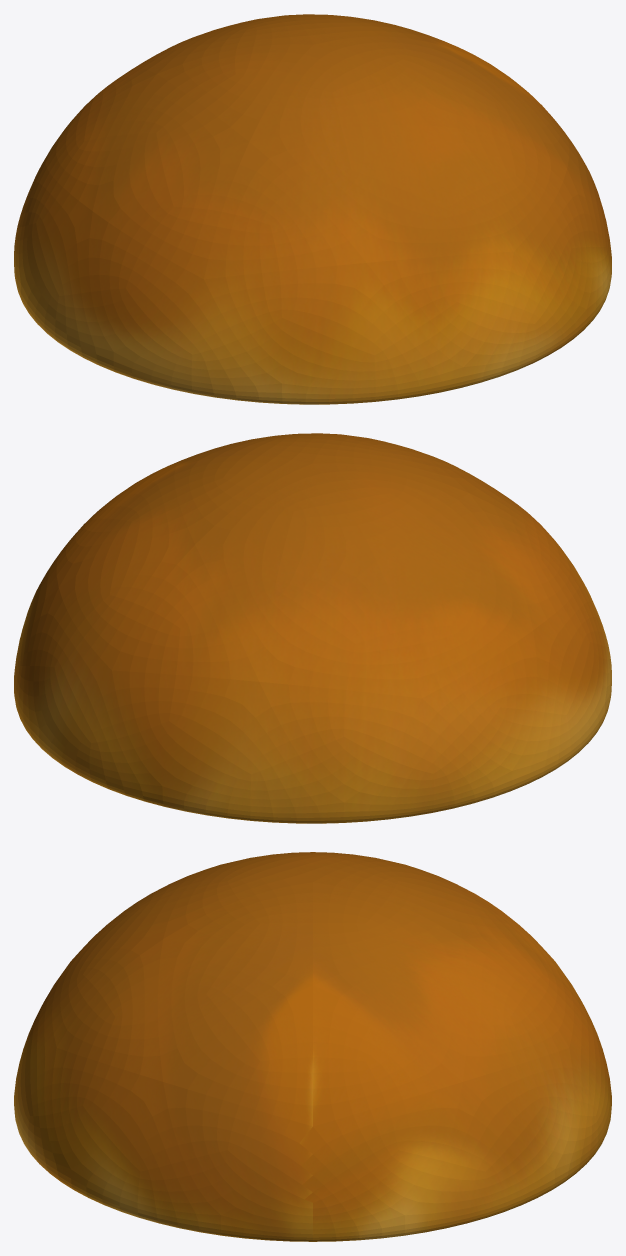
The model's file is top_bun.obj.
3 views of the same model, one above another, from view 1: azimuth 30°, elevation 25°; view 2: azimuth 150°, elevation 25°; view 3: azimuth 270°, elevation 25° (orthographic).
Parts seen in each view (by area): view 1: Icosphere; view 2: Icosphere; view 3: Icosphere.
Part boxes in pixels (x1,y1,x2,y2): Icosphere: (14, 14, 611, 404); Icosphere: (14, 433, 611, 823); Icosphere: (14, 852, 611, 1241).
Bounding box in the file's own units: 1.85 × 0.8025 × 1.85.
Materials: 1 (1 with a texture image).
